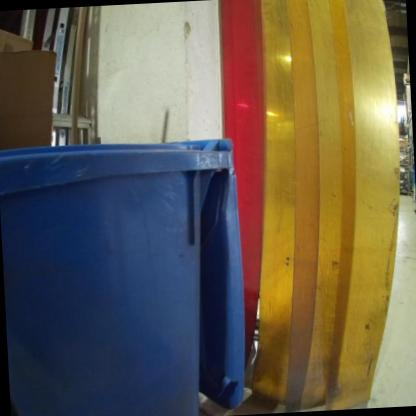stillage: (400, 165, 412, 197)
